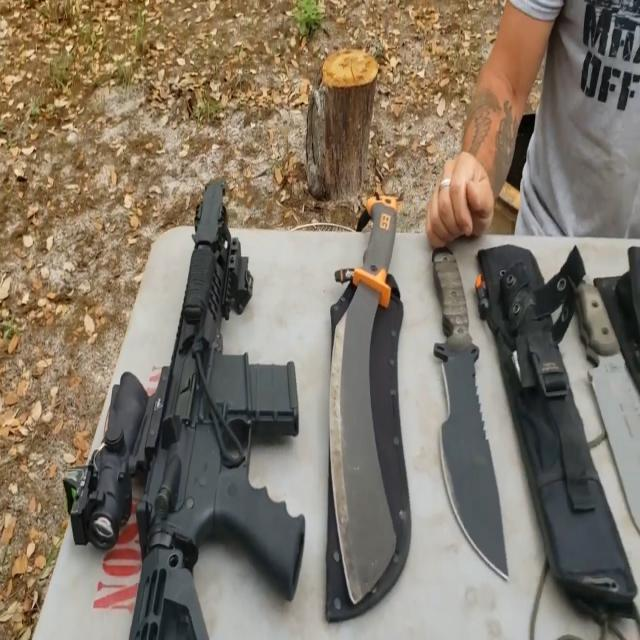knife: (321, 174, 405, 592), (417, 235, 514, 578), (570, 256, 640, 559)
long weapon: (66, 156, 326, 639)
